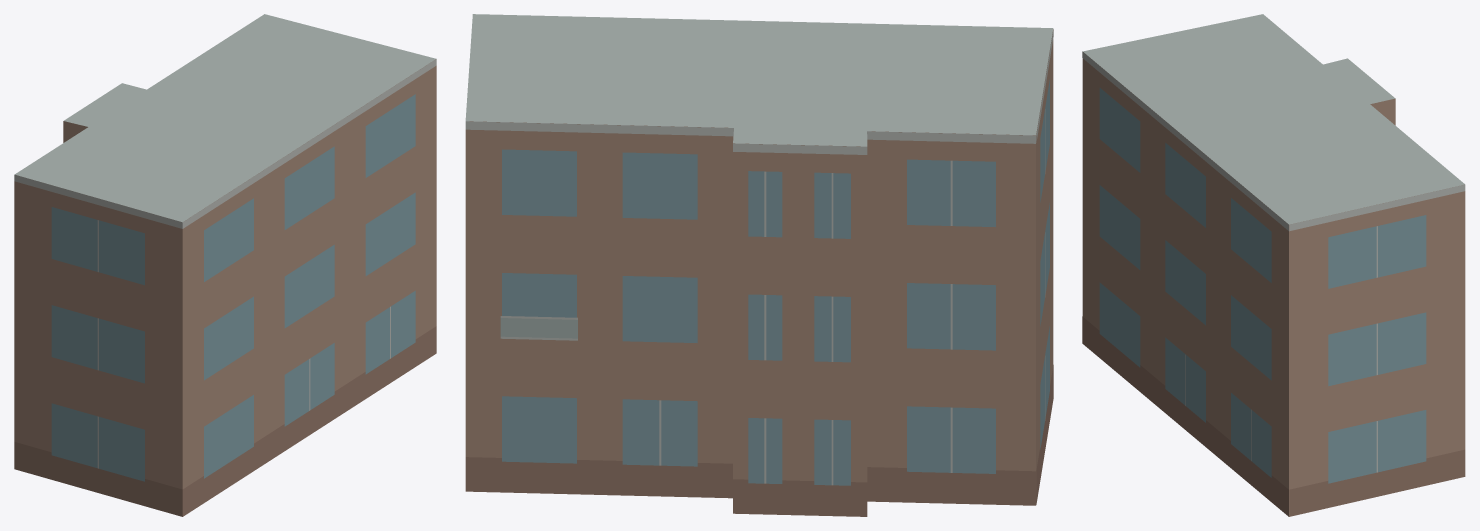
The model's file is survey-upis-32954517.glb.
3 views of the same model, side by side, from view 1: azimuth 30°, elevation 25°; view 2: azimuth 150°, elevation 25°; view 3: azimuth 270°, elevation 25° (orthographic). The views are drawn at different scales.
Visible parts, largest first — view 1: survey-upis-32954517.tmp; view 2: survey-upis-32954517.tmp; view 3: survey-upis-32954517.tmp.
Boxes of the visible parts, box(x1,y1,x2,y2) form: survey-upis-32954517.tmp: box(14, 14, 436, 516); survey-upis-32954517.tmp: box(465, 14, 1053, 516); survey-upis-32954517.tmp: box(1082, 14, 1465, 516).
Bounding box in the file's own units: 16.55 × 10.7 × 12.71.
